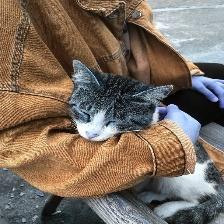kedo: (69, 61, 172, 142)
